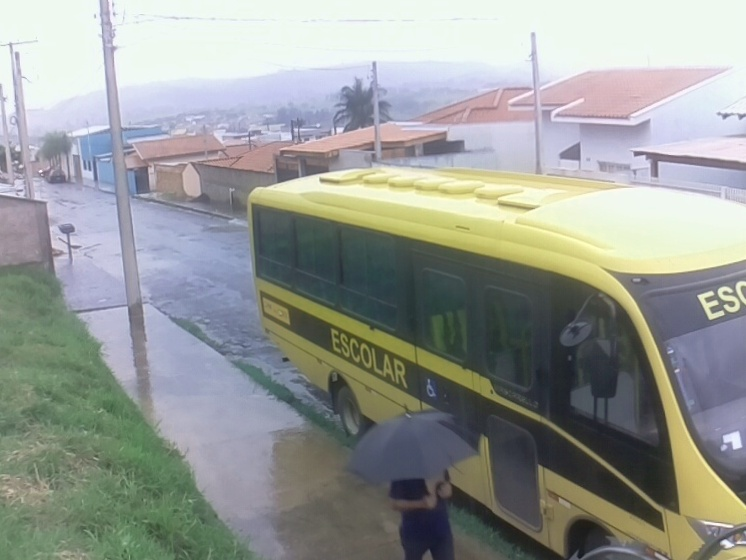person: (386, 466, 459, 560)
